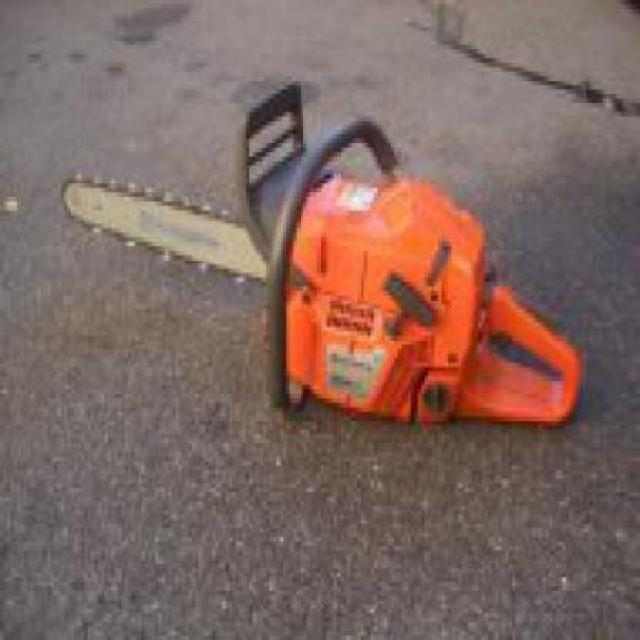Chainsaw: (57, 76, 586, 439)
